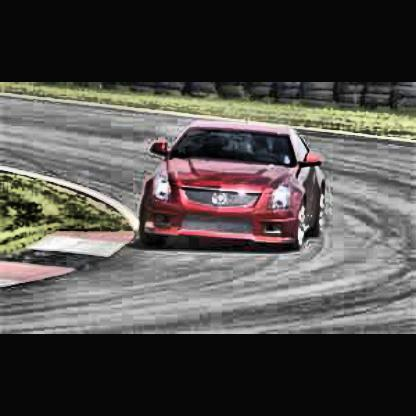Cadillac CTS-V Sedan 2012: (140, 120, 331, 255)
